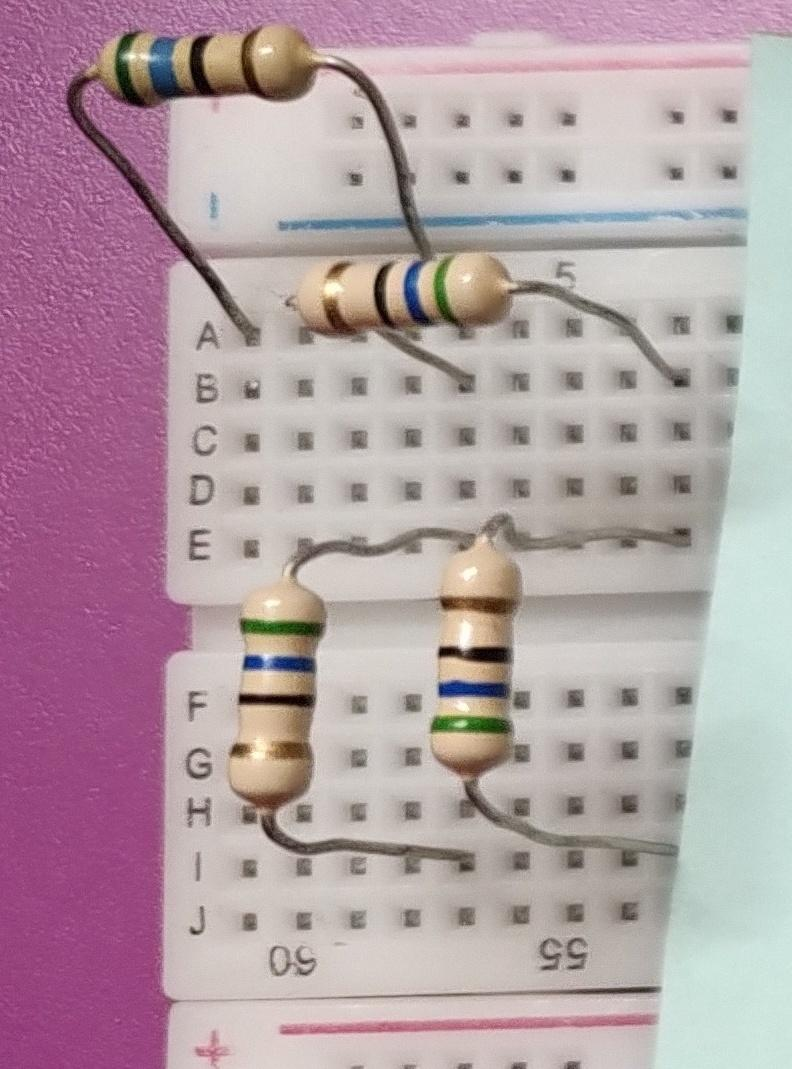resistor: (275, 235, 538, 362), (88, 5, 330, 138), (420, 537, 538, 800), (222, 562, 328, 820)
